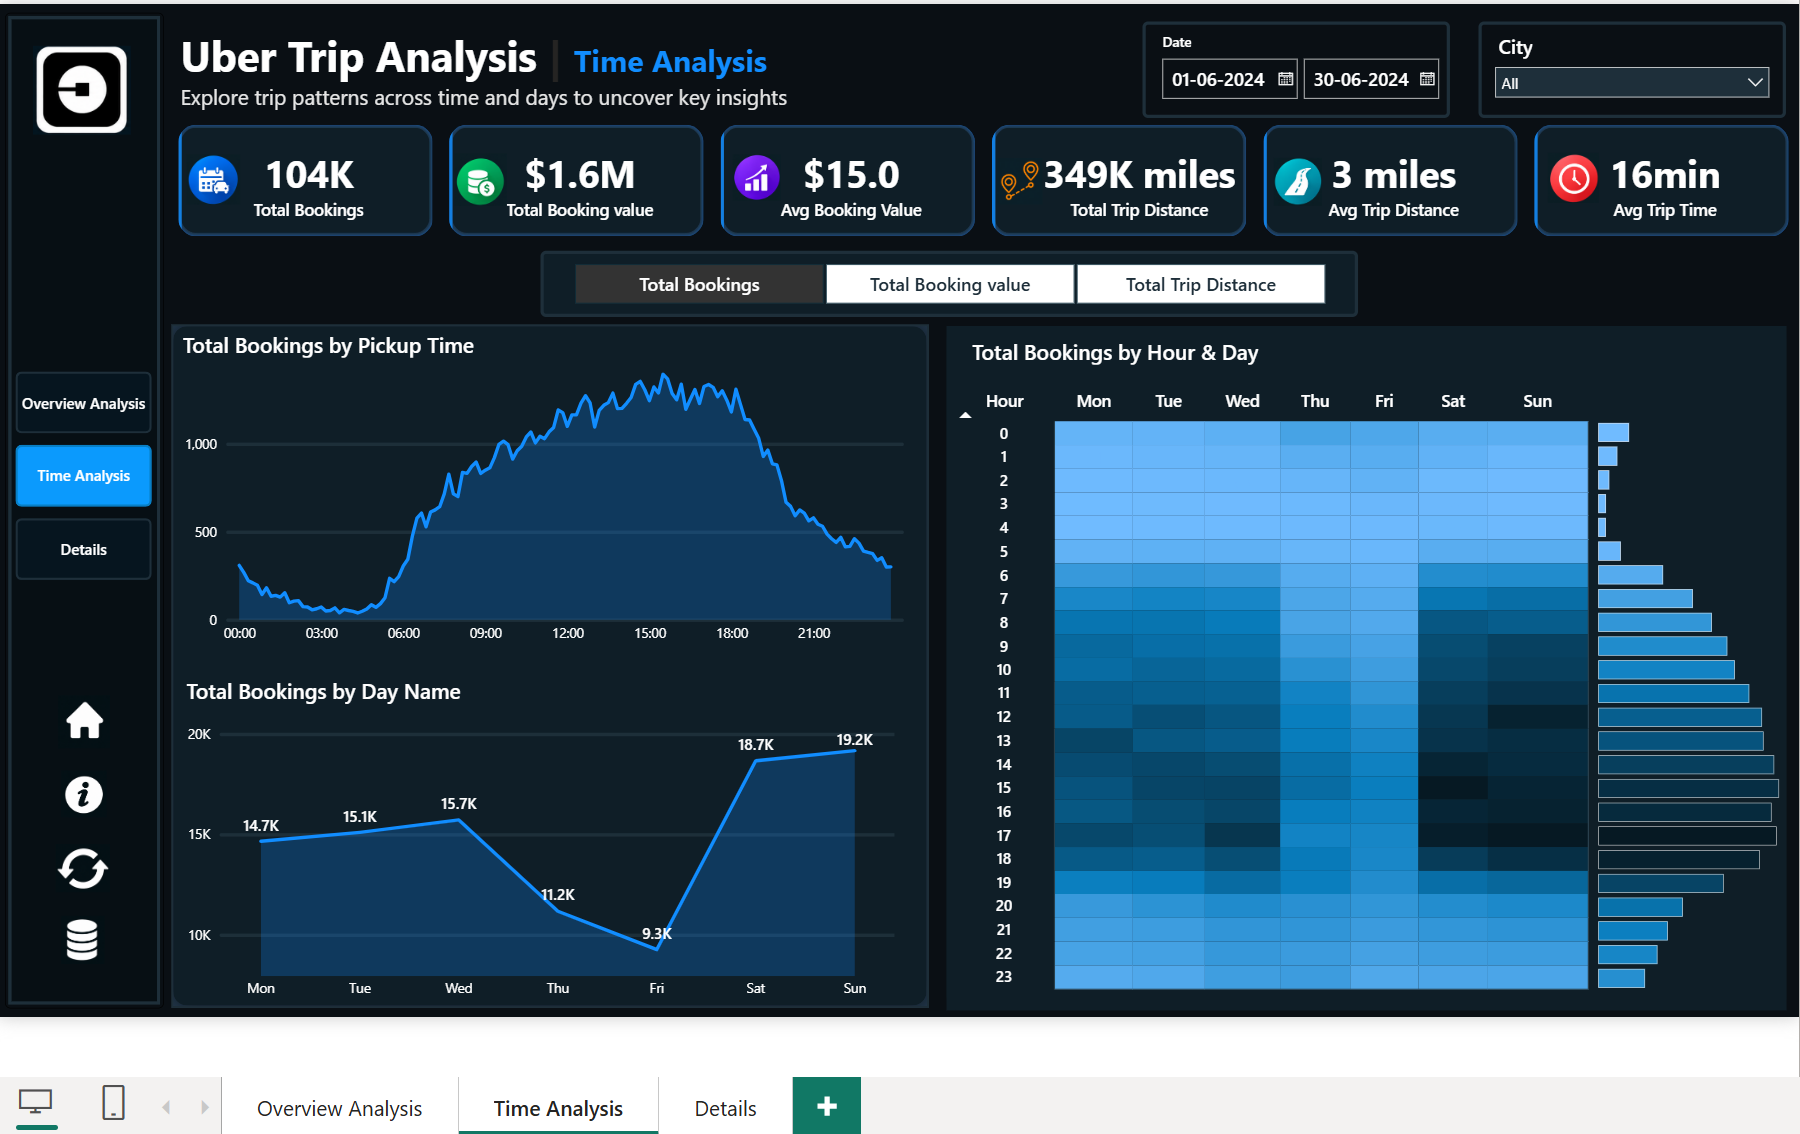

The page's visual inventory and layout, read from the dashboard file:
{"tool":"powerbi","page":{"name":"Time Analysis","canvas":[1600,900],"ordinal":1},"visuals":[{"type":"shape","box":[153.9,284.3,673.2,607.6],"z":0},{"type":"shape","box":[5.6,7.4,141.2,884.4],"z":1000},{"type":"textbox","box":[157,15.5,685.6,90.2],"z":2000},{"type":"cardVisual","fields":{"Data":["Trip Details.Total Bookings","Trip Details.Total Booking value","Trip Details.Avg Booking Amount","Trip Details.Total Trip Distance","Trip Details.Avg Trip Distance","Trip Details.Avg Trip Time"]},"box":[154.2,100.3,1445.5,111.5],"z":3000},{"type":"image","box":[405,131.9,46.5,48.3],"z":4000},{"type":"image","box":[163.5,133.8,55.7,44.6],"z":5000},{"type":"image","box":[644.7,133.8,57.6,40.9],"z":6000},{"type":"image","box":[1133.4,133.8,42.7,48.3],"z":7000},{"type":"image","box":[1374.9,131.9,50.2,44.6],"z":8000},{"type":"image","box":[884.4,137.5,46.5,40.9],"z":9000},{"type":"slicer","fields":{"Values":["Dynamic Measure.Dynamic Measure"]},"box":[482,219.2,726,59.1],"z":10000},{"type":"slicer","fields":{"Values":["Calendar table.Date"]},"box":[1016.3,14.9,273.1,85.5],"z":11000},{"type":"slicer","fields":{"Values":["Location Table.City"]},"box":[1315.5,14.9,273.1,85.5],"z":12000},{"type":"areaChart","fields":{"Y":["Trip Details.Total Bookings"],"Category":["Trip Details.Pickup Hour (HH MM SS) (bins)"]},"box":[159.6,314,653,262.7],"z":13000},{"type":"cardVisual","fields":{"Data":["Trip Details.Title for Pickup Time"]},"box":[146.1,278.3,379.5,46.6],"z":14000},{"type":"areaChart","fields":{"Y":["Trip Details.Total Bookings"],"Category":["Calendar table.Day Name"]},"box":[162.6,634.3,638,258.1],"z":15000},{"type":"cardVisual","fields":{"Data":["Trip Details.Title for Day Name"]},"box":[149.1,586.1,379.5,46.6],"z":16000},{"type":"shape","box":[842.6,286.1,746.3,607.9],"z":17000},{"type":"pivotTable","fields":{"Values":["Trip Details.Total Bookings"],"Rows":["Trip Details.Pickup Hour"],"Columns":["Calendar table.Day Name"]},"box":[844.8,335.8,578.3,551.9],"z":18000},{"type":"barChart","fields":{"Y":["Trip Details.Total Bookings"],"Category":["Trip Details.Pickup Hour"]},"box":[1420,363.8,169.5,531.7],"z":19000},{"type":"cardVisual","fields":{"Data":["Trip Details.Title for by Hour & Day"]},"box":[847.3,284.5,371.6,46.6],"z":20000},{"type":"image","box":[38.3,613.3,75,47.4],"z":36000},{"type":"image","box":[39.4,745.5,72.9,43.1],"z":37000},{"type":"image","box":[38.3,680.9,75,41.7],"z":38000},{"type":"image","box":[39.4,810.2,72.9,43.1],"z":39000},{"type":"pageNavigator","box":[15,326.7,121.7,185],"z":39001},{"type":"image","box":[31.7,28.3,86.7,96.7],"z":39002}]}

Visuals, with their boxes on the page's 1600x900 design canvas (x1, y1, x2, y2). These are canvas units, not pixel positions in the 1800x1134 screenshot, which may show the page scaled, cropped or inside an application window:
shape: l=154, t=284, r=827, b=892
shape: l=6, t=7, r=147, b=892
textbox: l=157, t=16, r=843, b=106
cardVisual - Trip Details.Total Bookings x Trip Details.Total Booking value: l=154, t=100, r=1600, b=212
image: l=405, t=132, r=452, b=180
image: l=164, t=134, r=219, b=178
image: l=645, t=134, r=702, b=175
image: l=1133, t=134, r=1176, b=182
image: l=1375, t=132, r=1425, b=176
image: l=884, t=138, r=931, b=178
slicer - Dynamic Measure.Dynamic Measure: l=482, t=219, r=1208, b=278
slicer - Calendar table.Date: l=1016, t=15, r=1289, b=100
slicer - Location Table.City: l=1316, t=15, r=1589, b=100
areaChart - Trip Details.Total Bookings x Trip Details.Pickup Hour (HH MM SS) (bins): l=160, t=314, r=813, b=577
cardVisual - Trip Details.Title for Pickup Time: l=146, t=278, r=526, b=325
areaChart - Trip Details.Total Bookings x Calendar table.Day Name: l=163, t=634, r=801, b=892
cardVisual - Trip Details.Title for Day Name: l=149, t=586, r=529, b=633
shape: l=843, t=286, r=1589, b=894
pivotTable - Trip Details.Total Bookings x Trip Details.Pickup Hour: l=845, t=336, r=1423, b=888
barChart - Trip Details.Total Bookings x Trip Details.Pickup Hour: l=1420, t=364, r=1590, b=896
cardVisual - Trip Details.Title for by Hour & Day: l=847, t=284, r=1219, b=331
image: l=38, t=613, r=113, b=661
image: l=39, t=746, r=112, b=789
image: l=38, t=681, r=113, b=723
image: l=39, t=810, r=112, b=853
pageNavigator: l=15, t=327, r=137, b=512
image: l=32, t=28, r=118, b=125
